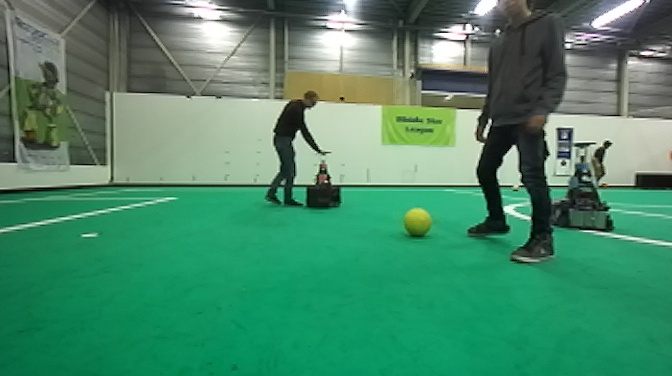ball: (401, 206, 432, 239), (509, 180, 521, 195), (598, 179, 609, 187)
human: (463, 1, 570, 267), (261, 90, 331, 209), (591, 140, 617, 189)
robot: (550, 140, 616, 234), (304, 148, 342, 209)
